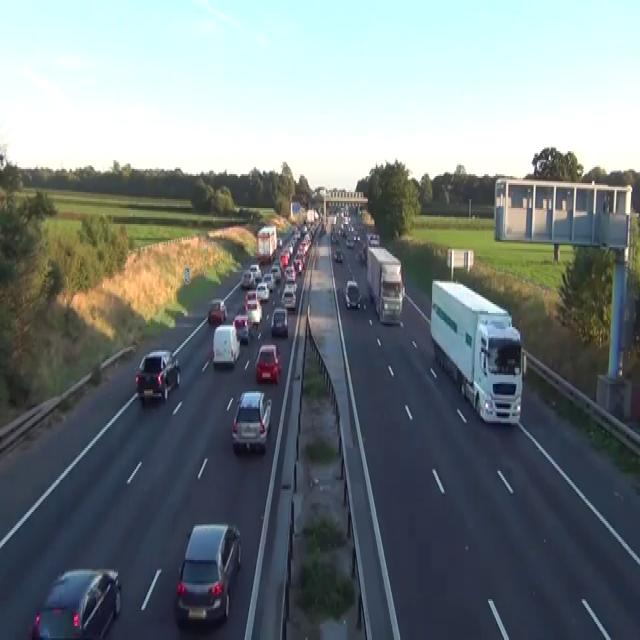Car: (175, 522, 241, 626), (29, 567, 121, 638), (231, 389, 272, 454), (134, 348, 180, 402), (378, 270, 403, 324), (212, 324, 240, 366), (254, 343, 281, 384), (244, 290, 262, 324), (342, 279, 361, 309), (232, 315, 251, 343), (207, 298, 227, 324), (270, 308, 288, 336), (280, 286, 296, 310), (240, 270, 255, 288), (255, 281, 269, 300), (261, 272, 275, 290), (244, 290, 257, 309), (355, 244, 367, 263), (249, 263, 261, 281), (283, 279, 297, 293), (270, 265, 281, 281), (284, 265, 295, 281), (368, 233, 380, 247), (293, 258, 303, 274), (279, 250, 288, 266), (333, 249, 343, 261), (330, 231, 338, 244), (345, 237, 354, 247), (300, 224, 307, 236), (294, 229, 300, 240), (277, 237, 282, 247)
Truck: (430, 279, 525, 425), (366, 244, 404, 324), (256, 224, 277, 263)
